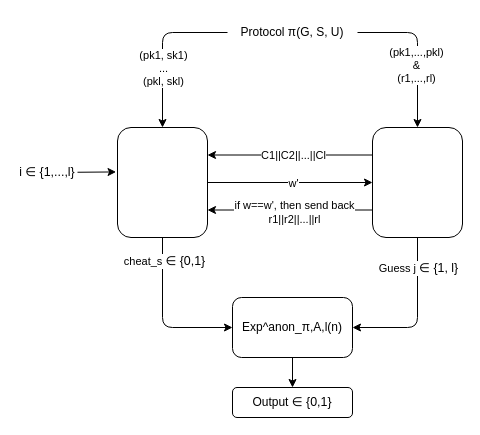
Some shapes in this 480 by 435 pixel diagram are drawn without their labels. The shapes that lost their labels are listed below. From the top down, each one's box as (x1, y1, x2, y2) in pixels, then its label:
(116, 126, 208, 238): Challenger User Ui
(372, 126, 462, 238): Adversarial Server S
